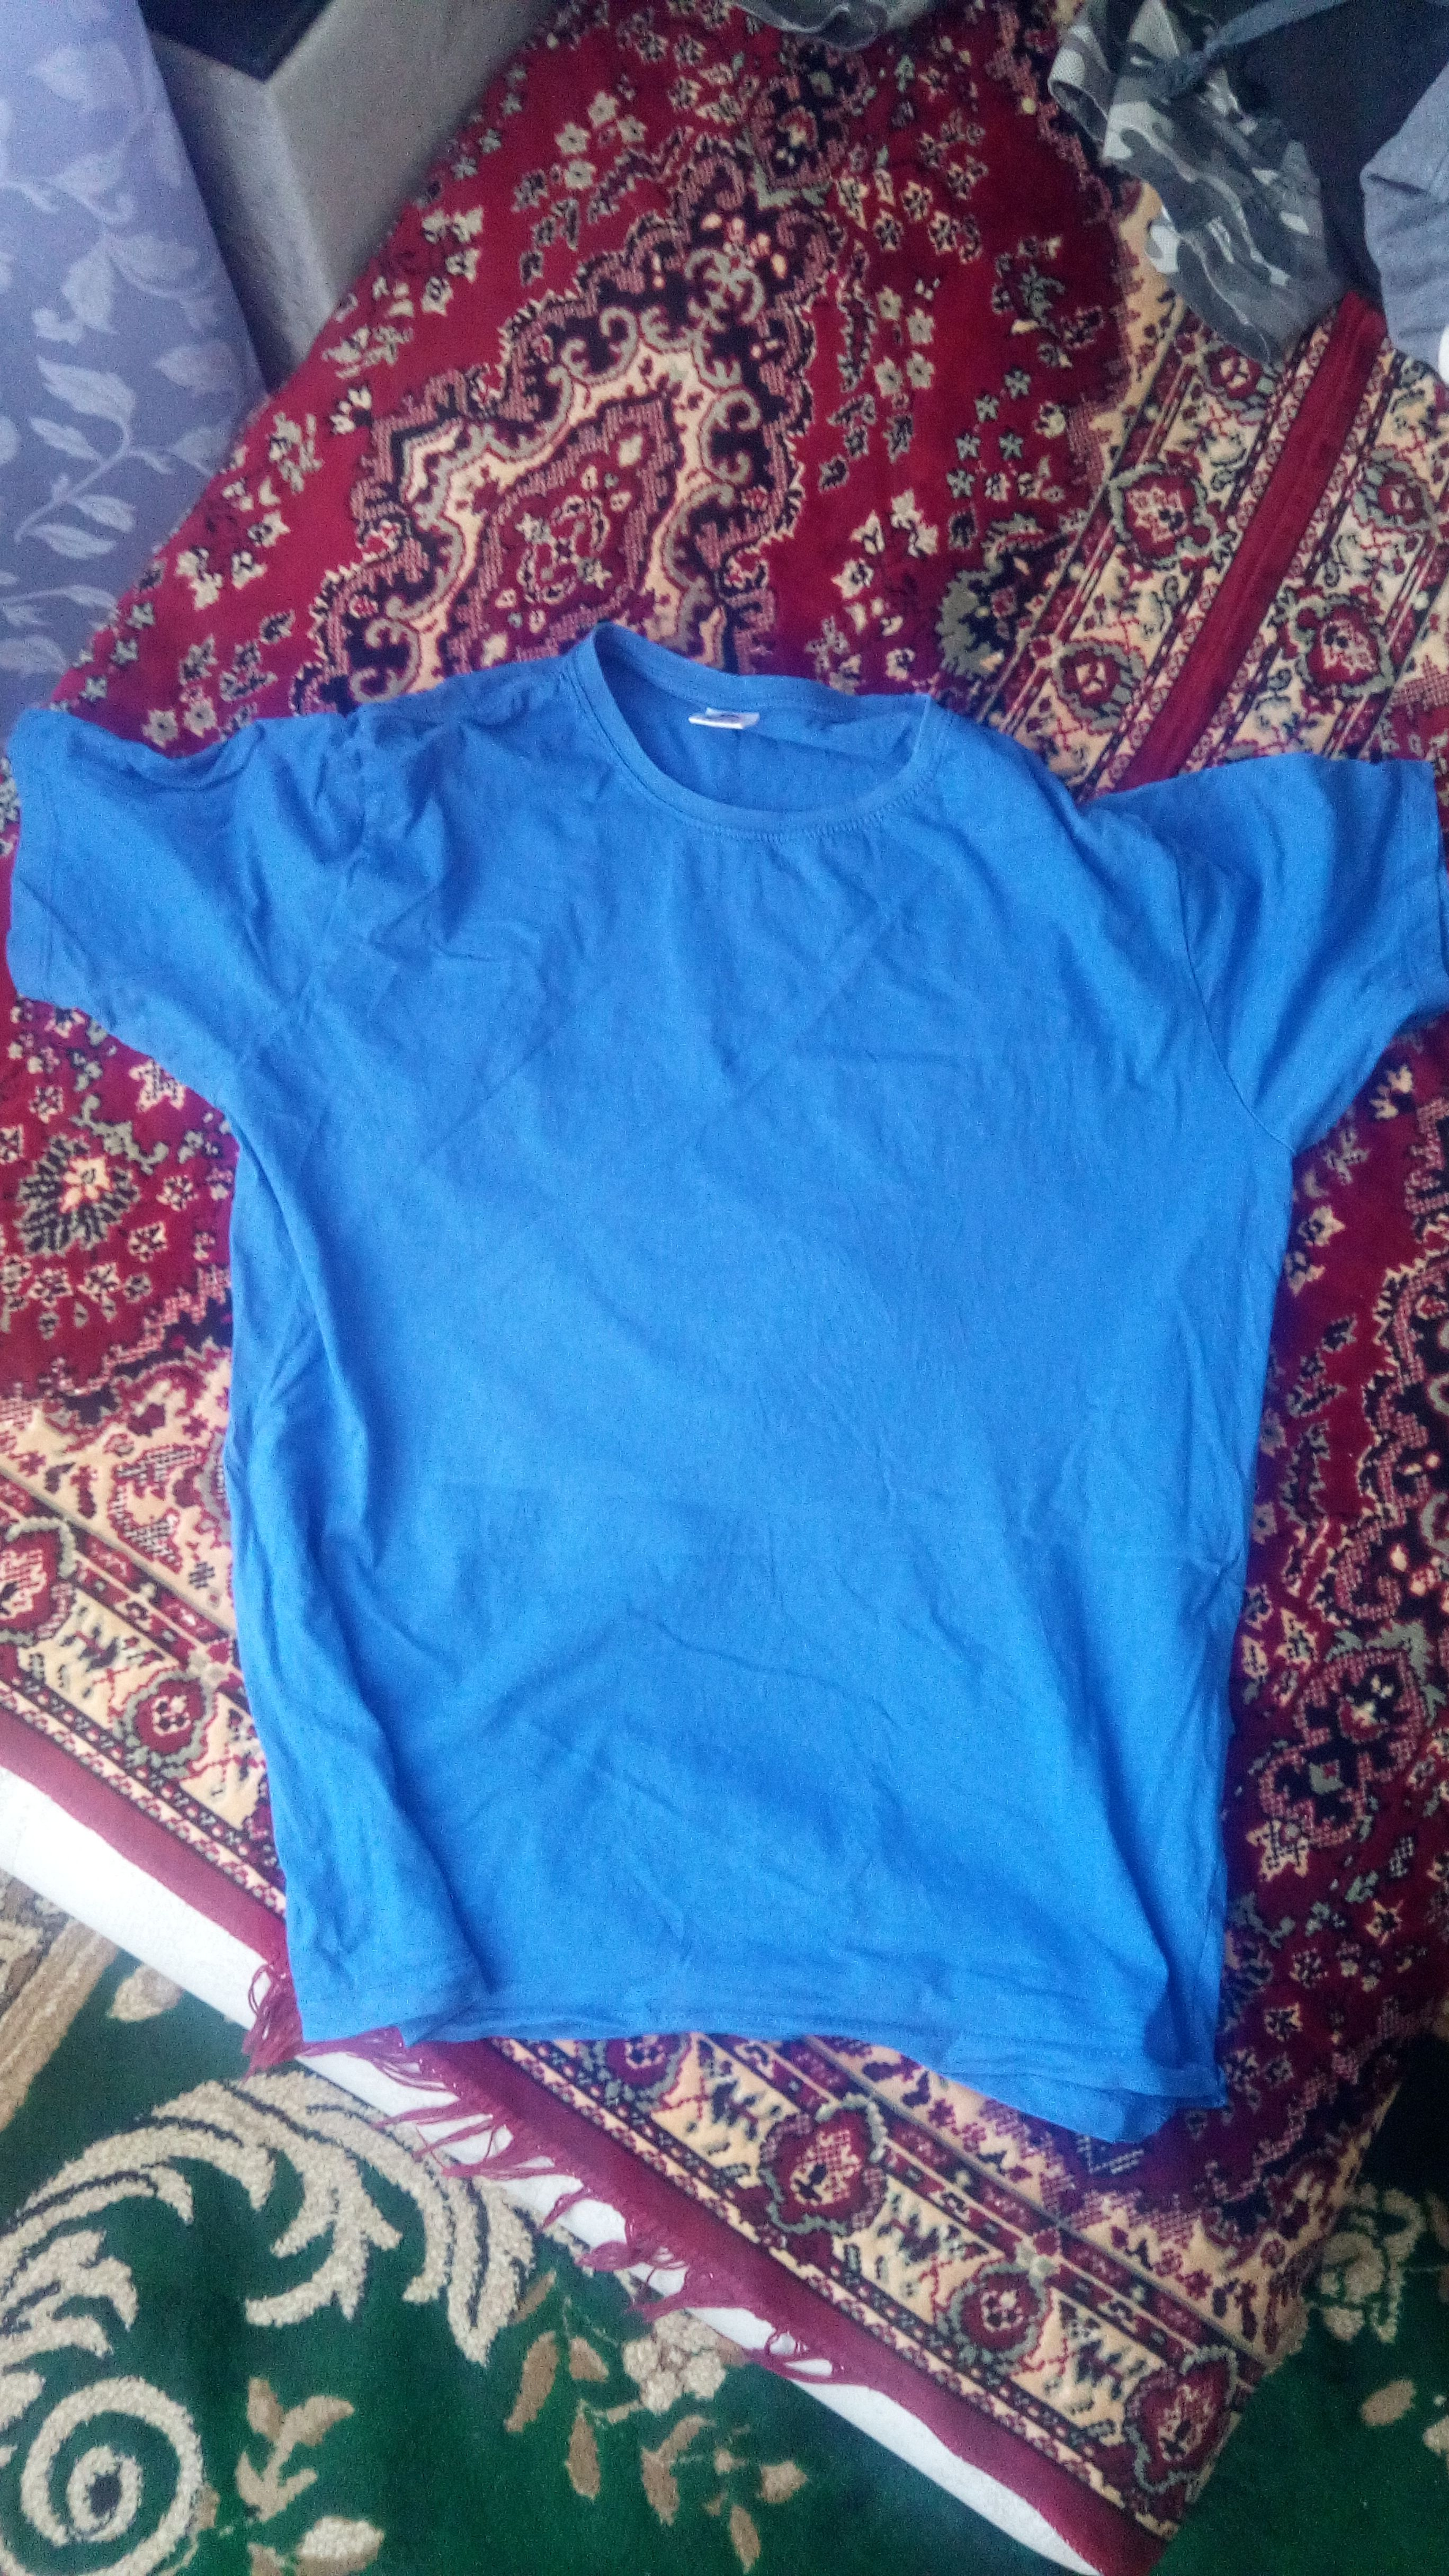clothes: (18, 626, 1276, 2155)
